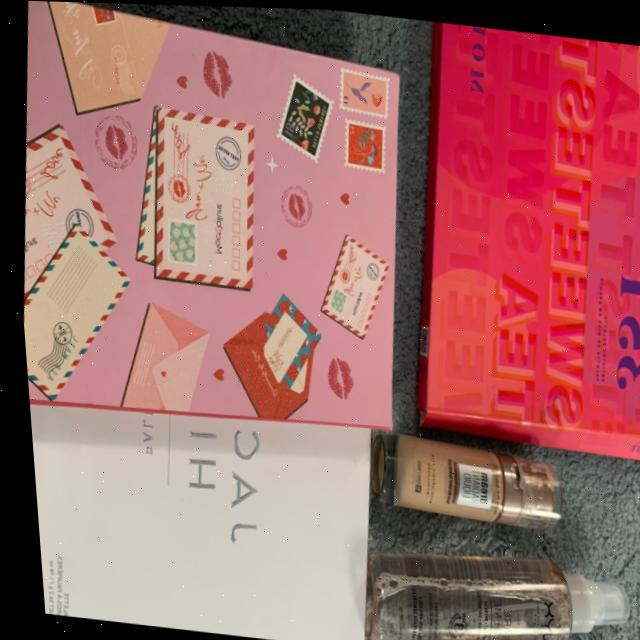foundation: (363, 413, 579, 548)
makeup: (0, 0, 436, 443), (369, 16, 640, 466), (23, 387, 389, 640)
setting spray: (346, 533, 640, 640)
